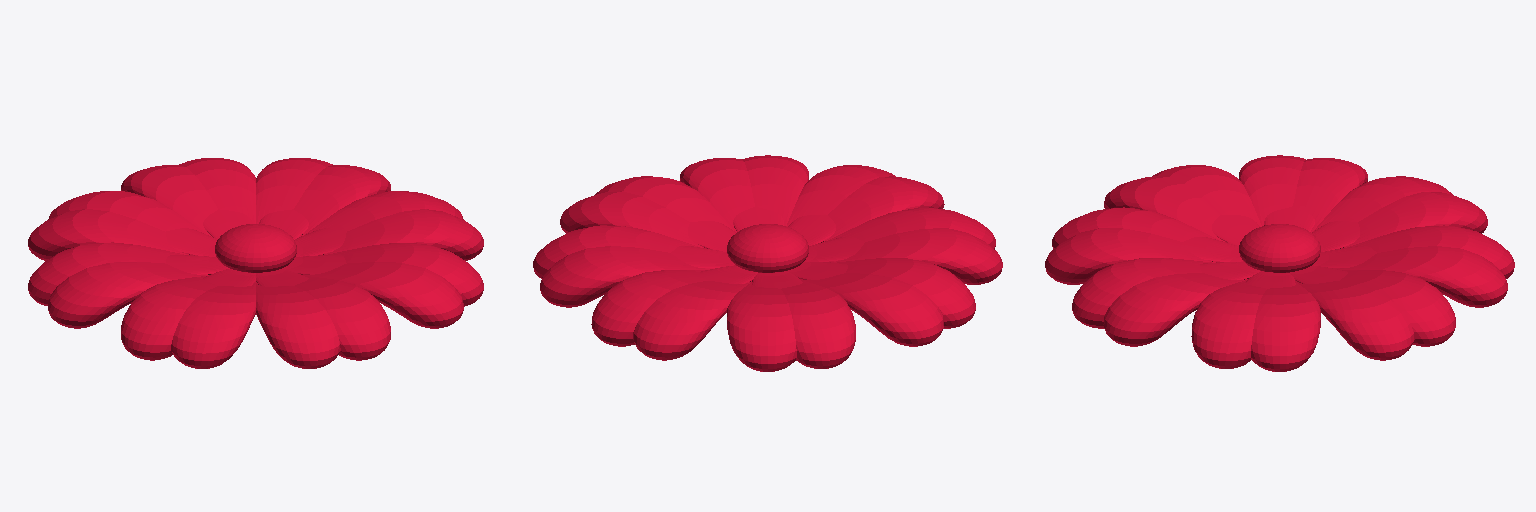
File: Flower_1.obj
3 views of the same model, side by side, from view 1: azimuth 30°, elevation 25°; view 2: azimuth 150°, elevation 25°; view 3: azimuth 270°, elevation 25° (orthographic).
Parts seen in each view (by area): view 1: Sphere.001; view 2: Sphere.001; view 3: Sphere.001.
Boxes of the visible parts, x1,y1,x2,y2 form: Sphere.001: [28, 158, 483, 368]; Sphere.001: [533, 155, 1002, 371]; Sphere.001: [1045, 155, 1514, 371].
Bounding box in the file's own units: 11.38 × 1.35 × 11.38.